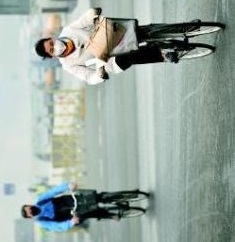person: (34, 9, 185, 85), (19, 184, 121, 229)
